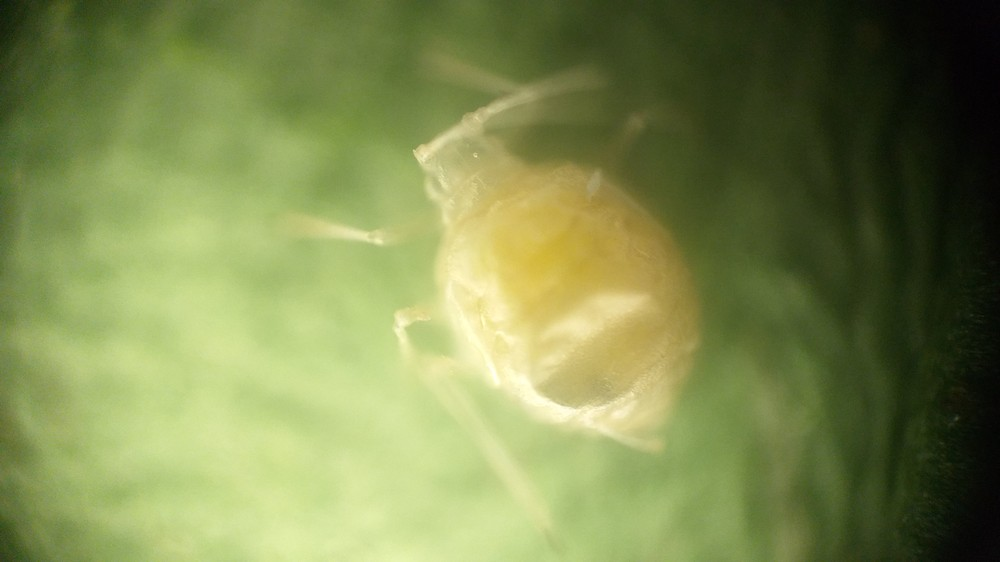Pulgon: (260, 38, 800, 541)
